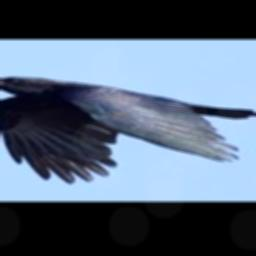Crow: (0, 76, 256, 184)
